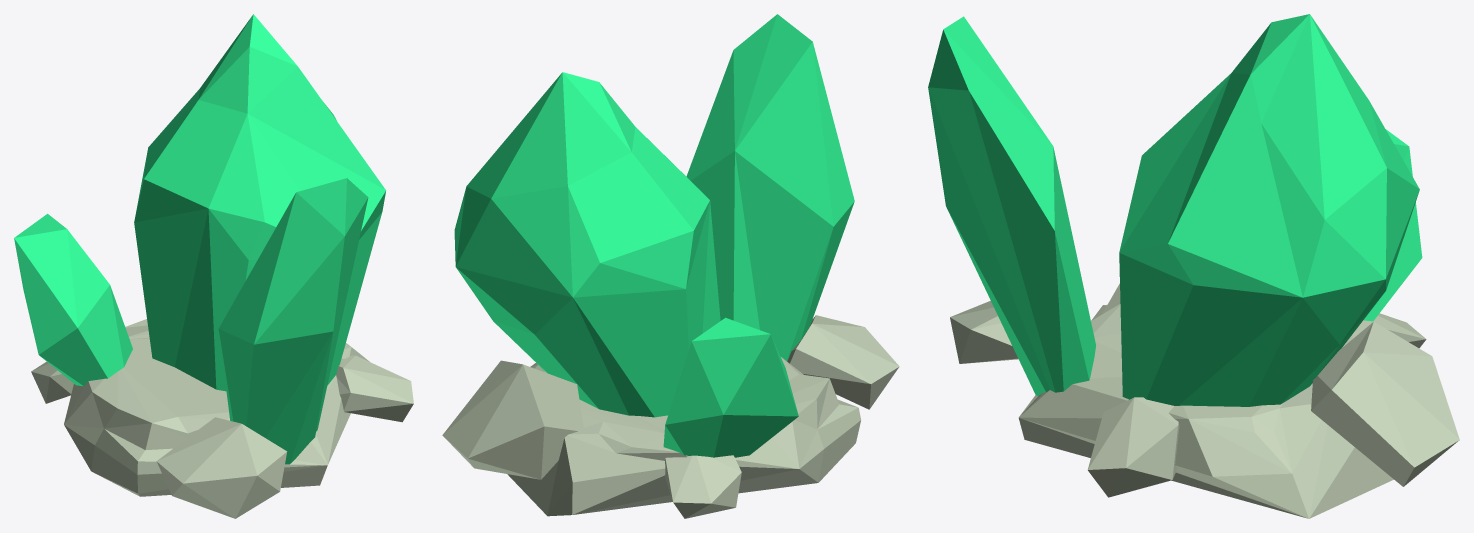
File: Model_Forest_1x1D.fbx
The picture shows the model from 3 angles, left to right: view 1: azimuth 30°, elevation 25°; view 2: azimuth 150°, elevation 25°; view 3: azimuth 270°, elevation 25°; orthographic projection. The views are drawn at different scales.
Parts seen in each view (by area): view 1: Model_Frost_1x1D; view 2: Model_Frost_1x1D; view 3: Model_Frost_1x1D.
Part boxes in pixels (left/top/right/bottom): Model_Frost_1x1D: left=14, top=14, right=413, bottom=518; Model_Frost_1x1D: left=442, top=14, right=899, bottom=518; Model_Frost_1x1D: left=928, top=14, right=1459, bottom=518.
Bounding box in the file's own units: 152 × 175 × 175.
Materials: 1 (1 with a texture image).
